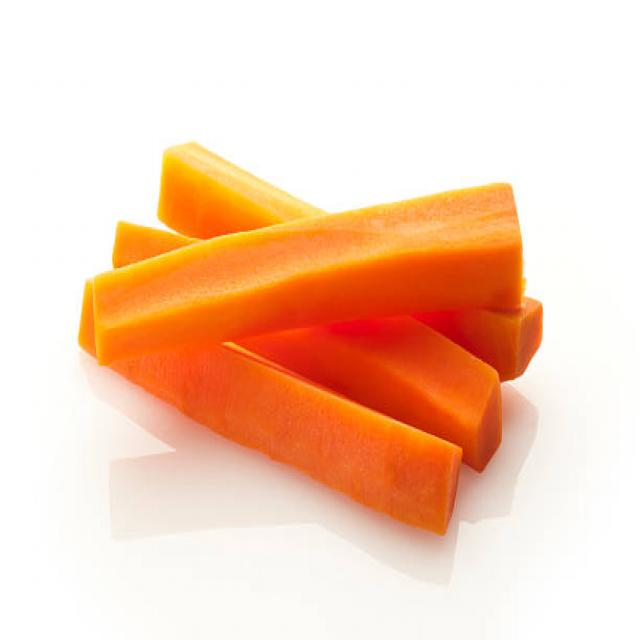carrot: (77, 143, 545, 538)
